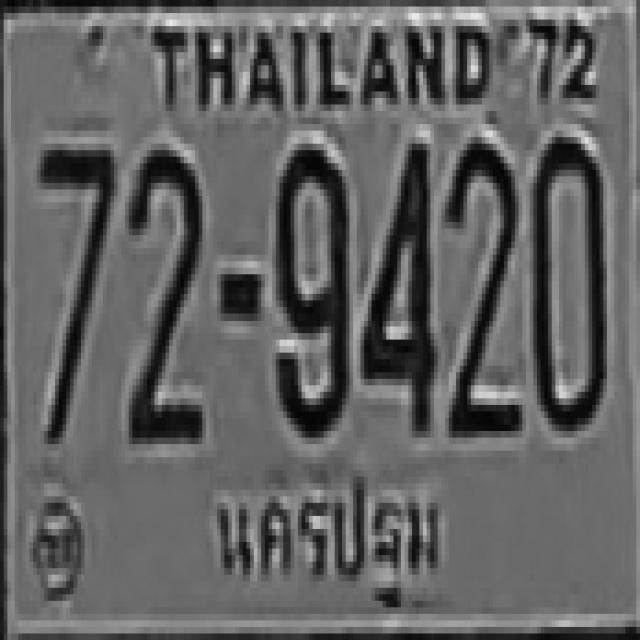0: (530, 130, 603, 424)
2: (125, 144, 199, 438), (443, 137, 517, 431)
4: (360, 134, 434, 428)
7: (37, 137, 114, 438)
9: (272, 137, 346, 431)
NakhonPathom: (201, 468, 451, 616)
